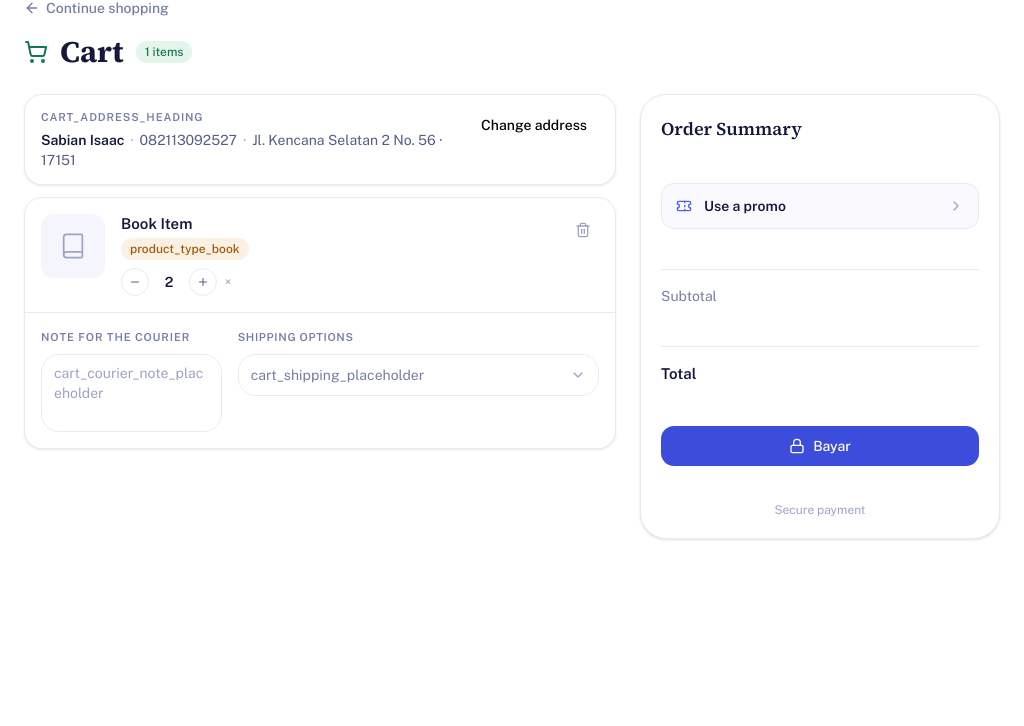
Test: CartPage with Shipping › stale shipping quote guard (#97) › leaves the rate list and courier selection intact when the saved address is unchanged (FR-13)
This screenshot has width=1024, height=726.
Click the button "Change address": (534, 125) [469,109,599,141]
(page scrolled)
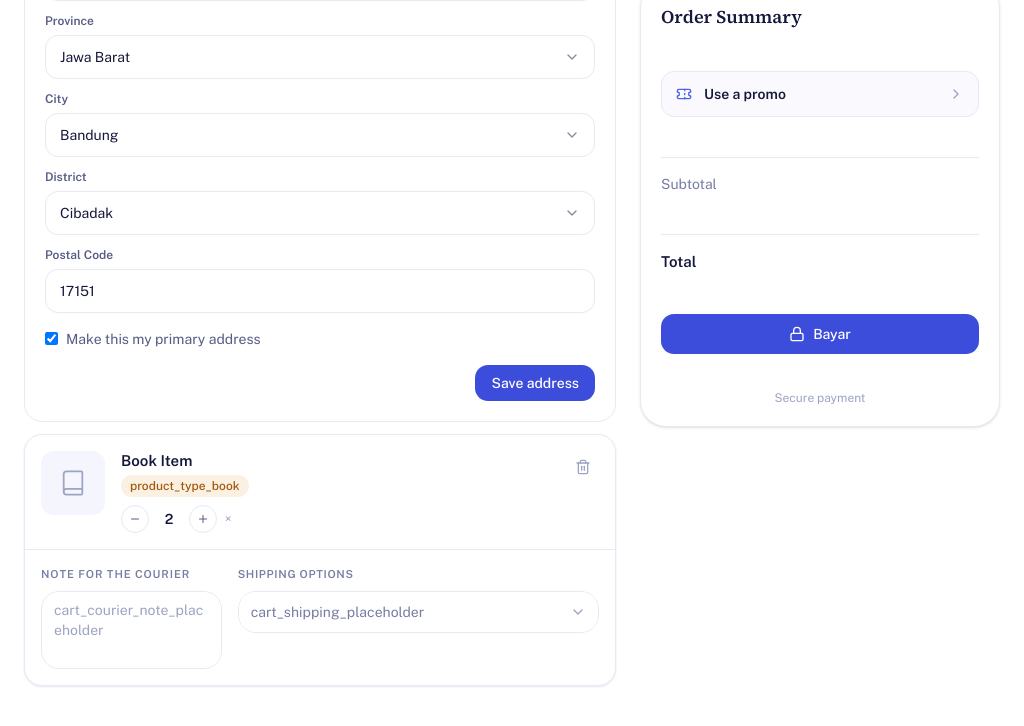
Click the button "Save address": (535, 382) [476,364,595,400]
(page scrolled)
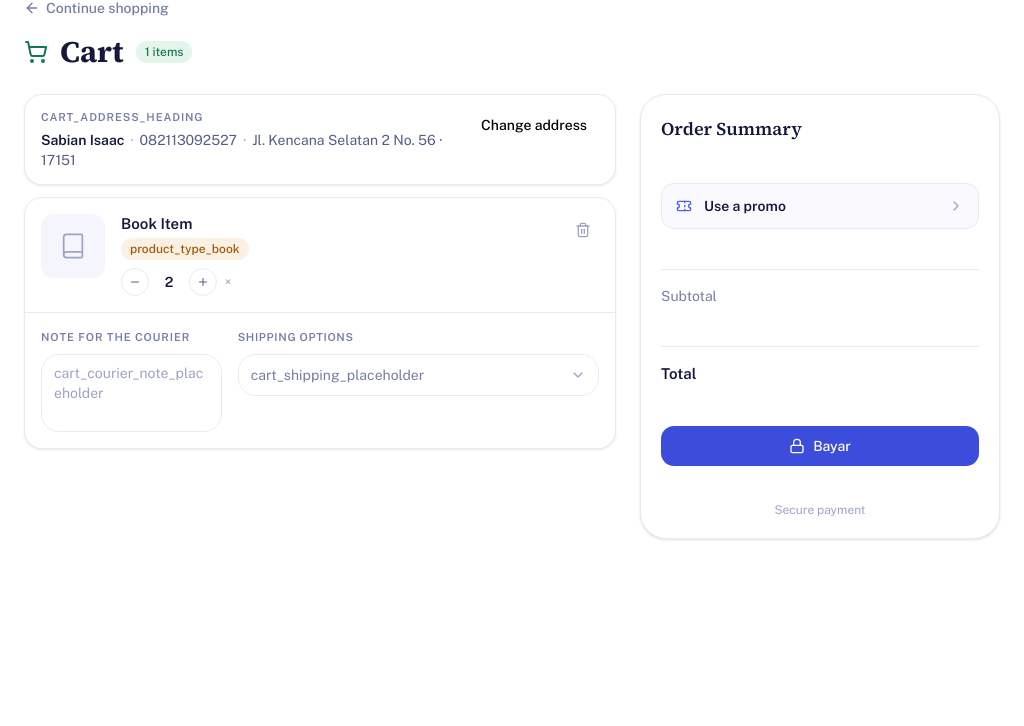
Expected: the button "Change address" is shown, [469,109,599,141]
Click the button "cart_shipping_placeholder": (418, 375) [239,355,598,395]
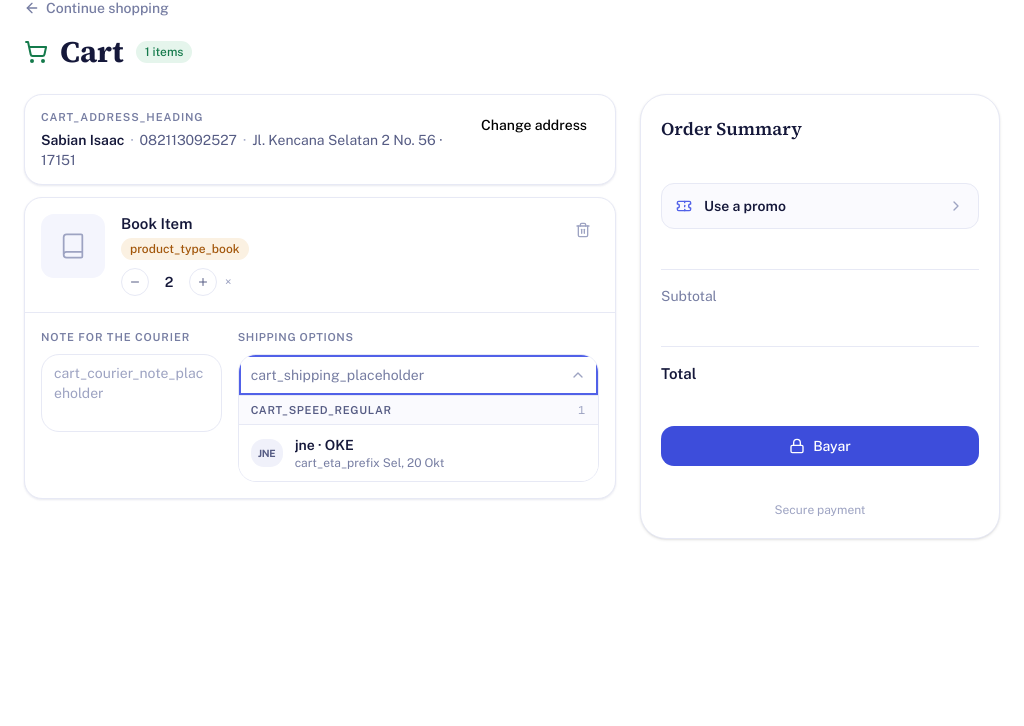
Expected: the radio button labelled "JNE" is shown, [239,425,598,481]
